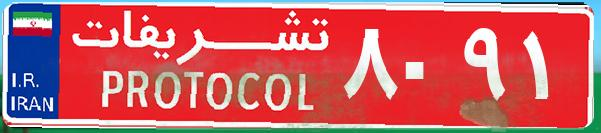0: (400, 20, 460, 115)
1: (520, 20, 580, 115)
8: (340, 20, 400, 115)
9: (460, 20, 520, 115)
تشریفات: (60, 8, 340, 125)
